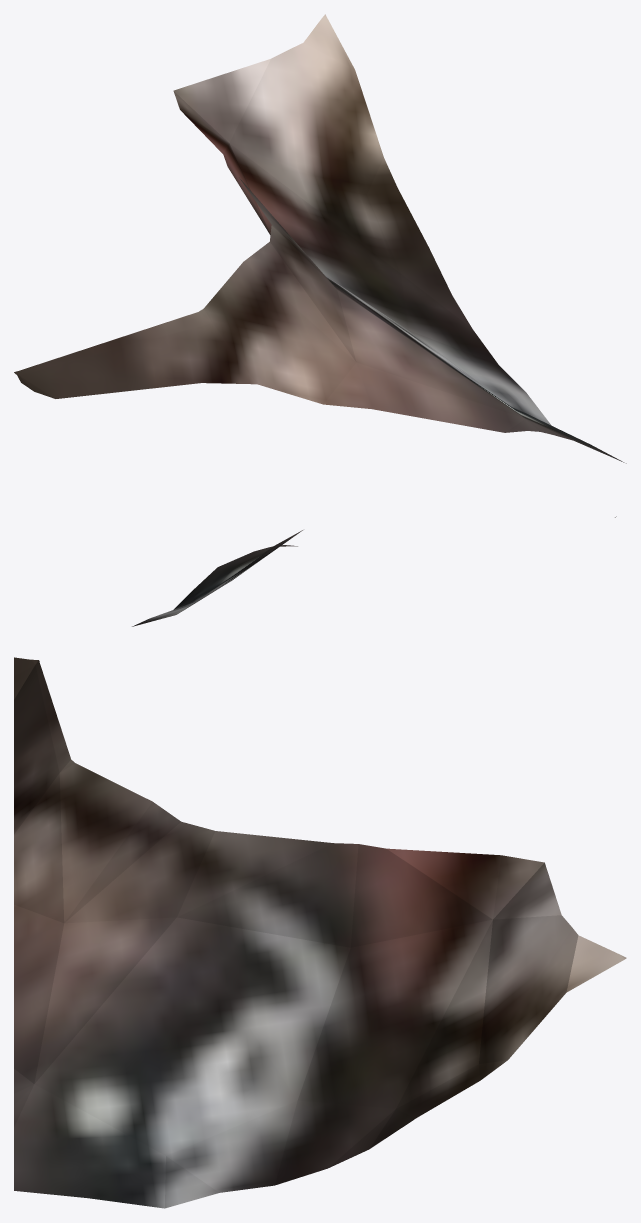
3 renders of one model, top to bottom at view 1: azimuth 30°, elevation 25°; view 2: azimuth 150°, elevation 25°; view 3: azimuth 270°, elevation 25°, orthographic. The views are drawn at different scales.
Size of the model in its own units: 0.2041 by 0.0793 by 0.1759.
1 material, 1 textured.
